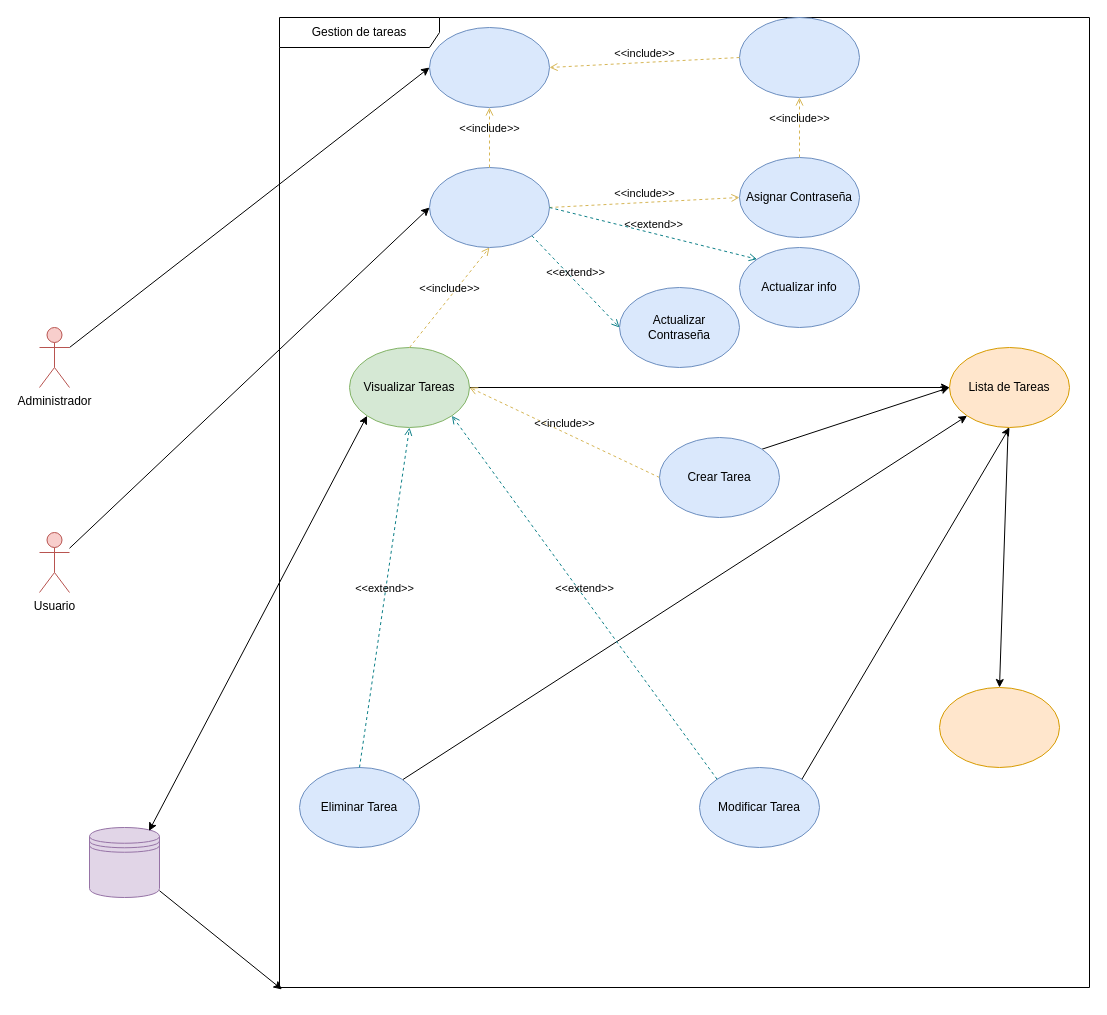
Some shapes in this 1107 by 1015 pixel diagram are drawn without their labels. Each missing label, with the box of its shape:
Asignar nomUsuario, email y rol: (738, 16, 860, 98)
Base de Datos: (88, 826, 160, 898)
Iniciar Sesion: (428, 166, 550, 248)
Organizar Tareas: (938, 686, 1060, 768)
Registrar Usuario: (428, 26, 550, 108)
